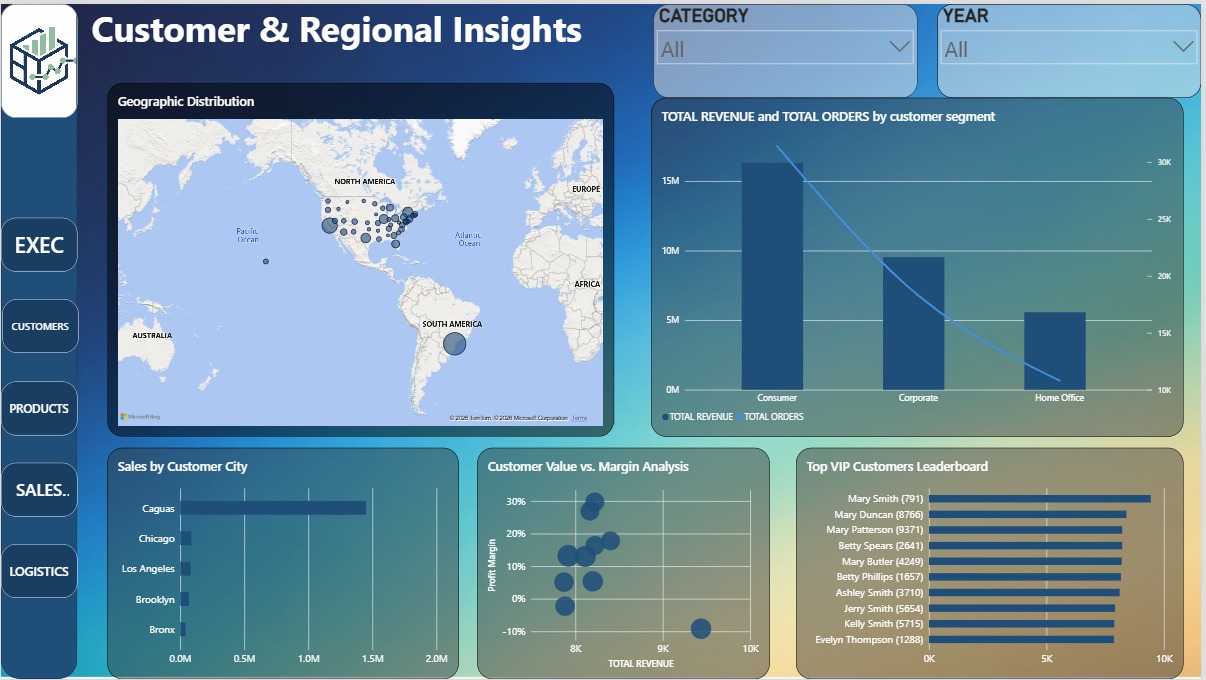

What the dashboard file says about the page in this screenshot:
{"tool":"powerbi","page":{"name":"CUSTOMERS","canvas":[1920,1080],"ordinal":1},"visuals":[{"type":"shape","box":[0,0,122,1080],"z":0},{"type":"textbox","box":[132,0,810,76],"z":2000},{"type":"slicer","fields":{"Values":["gold dim_date.year"]},"box":[1498,0,422,150],"z":3000},{"type":"slicer","fields":{"Values":["gold dim_products.category_name"]},"box":[1044,0,422,150],"z":4000},{"type":"map","title":"Geographic Distribution","fields":{"Category":["gold dim_customers.customer_state"],"Size":["KEY_MEASURES.TOTAL REVENUE"]},"box":[170,126,810,566],"z":8000},{"type":"clusteredBarChart","title":"Sales by Customer City","fields":{"Category":["gold dim_customers.customer_city"],"Y":["KEY_MEASURES.TOTAL PROFIT"]},"box":[170,710,562,370],"z":10000},{"type":"clusteredBarChart","title":"Top VIP Customers Leaderboard","fields":{"Category":["gold dim_customers.customer_full_name"],"Y":["KEY_MEASURES.TOTAL REVENUE"]},"box":[1272,710,620,370],"z":11000},{"type":"lineClusteredColumnComboChart","title":"TOTAL REVENUE and TOTAL ORDERS by customer segment","fields":{"Category":["gold dim_customers.customer_segment"],"Y":["KEY_MEASURES.TOTAL REVENUE"],"Y2":["KEY_MEASURES.TOTAL ORDERS"]},"box":[1040,150,852,542],"z":15001},{"type":"scatterChart","title":"Customer Value vs. Margin Analysis","fields":{"Category":["gold dim_customers.customer_full_name"],"Size":["KEY_MEASURES.TOTAL ORDERS"],"X":["KEY_MEASURES.TOTAL REVENUE"],"Y":["KEY_MEASURES.Profit Margin"]},"box":[762,710,468,370],"z":15002},{"type":"image","box":[0,0,122,182],"z":15003},{"type":"actionButton","title":"EXEC","box":[0,342,122,86],"z":15004},{"type":"actionButton","box":[2,472.5,122,86],"z":15005},{"type":"actionButton","box":[0,603,122,86],"z":15006},{"type":"actionButton","box":[0,733.5,122,86],"z":15007},{"type":"actionButton","box":[0,864,122,86],"z":15008}]}

Visuals, with their boxes in screenshot pixels (x1, y1, x2, y2), scaled from the page's 1920x1080 canvas onto the 1206x680 screenshot:
shape: bbox(0, 0, 77, 679)
textbox: bbox(83, 0, 592, 48)
slicer - gold dim_date.year: bbox(941, 0, 1205, 94)
slicer - gold dim_products.category_name: bbox(656, 0, 921, 94)
"Geographic Distribution" map: bbox(107, 79, 616, 436)
"Sales by Customer City" clusteredBarChart: bbox(107, 447, 460, 679)
"Top VIP Customers Leaderboard" clusteredBarChart: bbox(799, 447, 1188, 679)
"TOTAL REVENUE and TOTAL ORDERS by customer segment" lineClusteredColumnComboChart: bbox(653, 94, 1188, 436)
"Customer Value vs. Margin Analysis" scatterChart: bbox(479, 447, 773, 679)
image: bbox(0, 0, 77, 115)
"EXEC" actionButton: bbox(0, 215, 77, 269)
actionButton: bbox(1, 298, 78, 352)
actionButton: bbox(0, 380, 77, 434)
actionButton: bbox(0, 462, 77, 516)
actionButton: bbox(0, 544, 77, 598)
